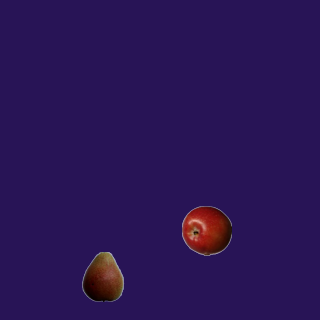Apple Braeburn: (181, 205, 231, 255)
Pear Forelle: (77, 251, 127, 301)
